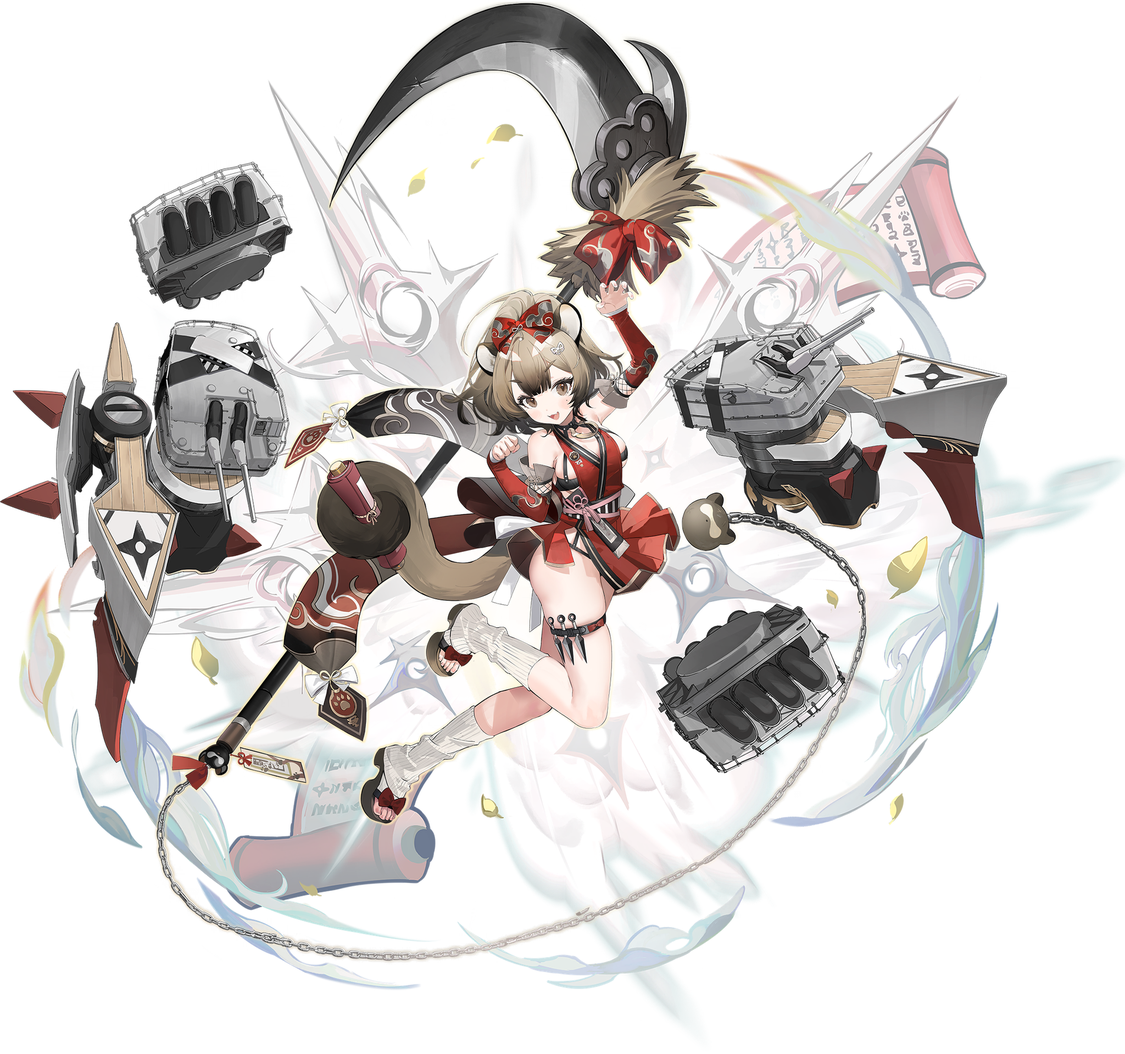person: (337, 272, 889, 1051)
